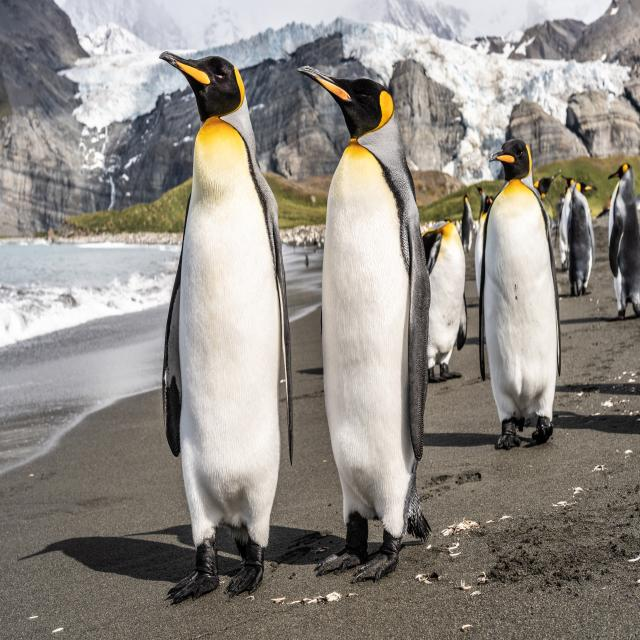Penguins: (148, 39, 290, 610), (298, 51, 427, 586), (482, 129, 557, 450)
